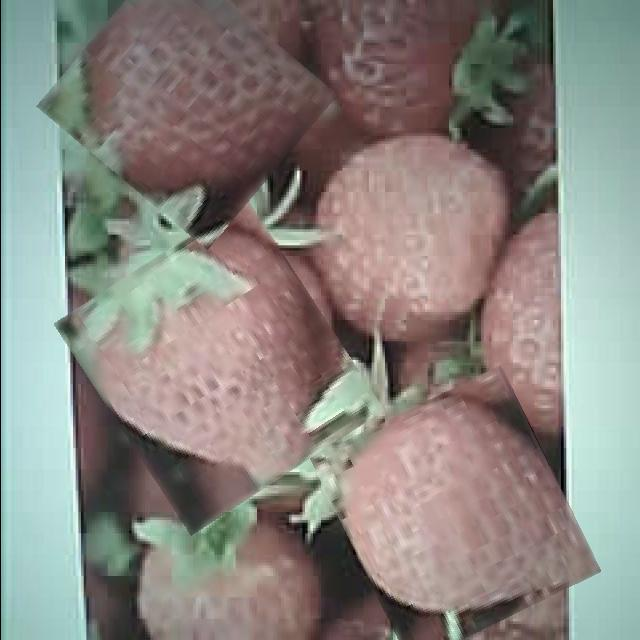strawberry: (77, 220, 358, 515), (328, 383, 580, 640), (55, 0, 318, 227)
